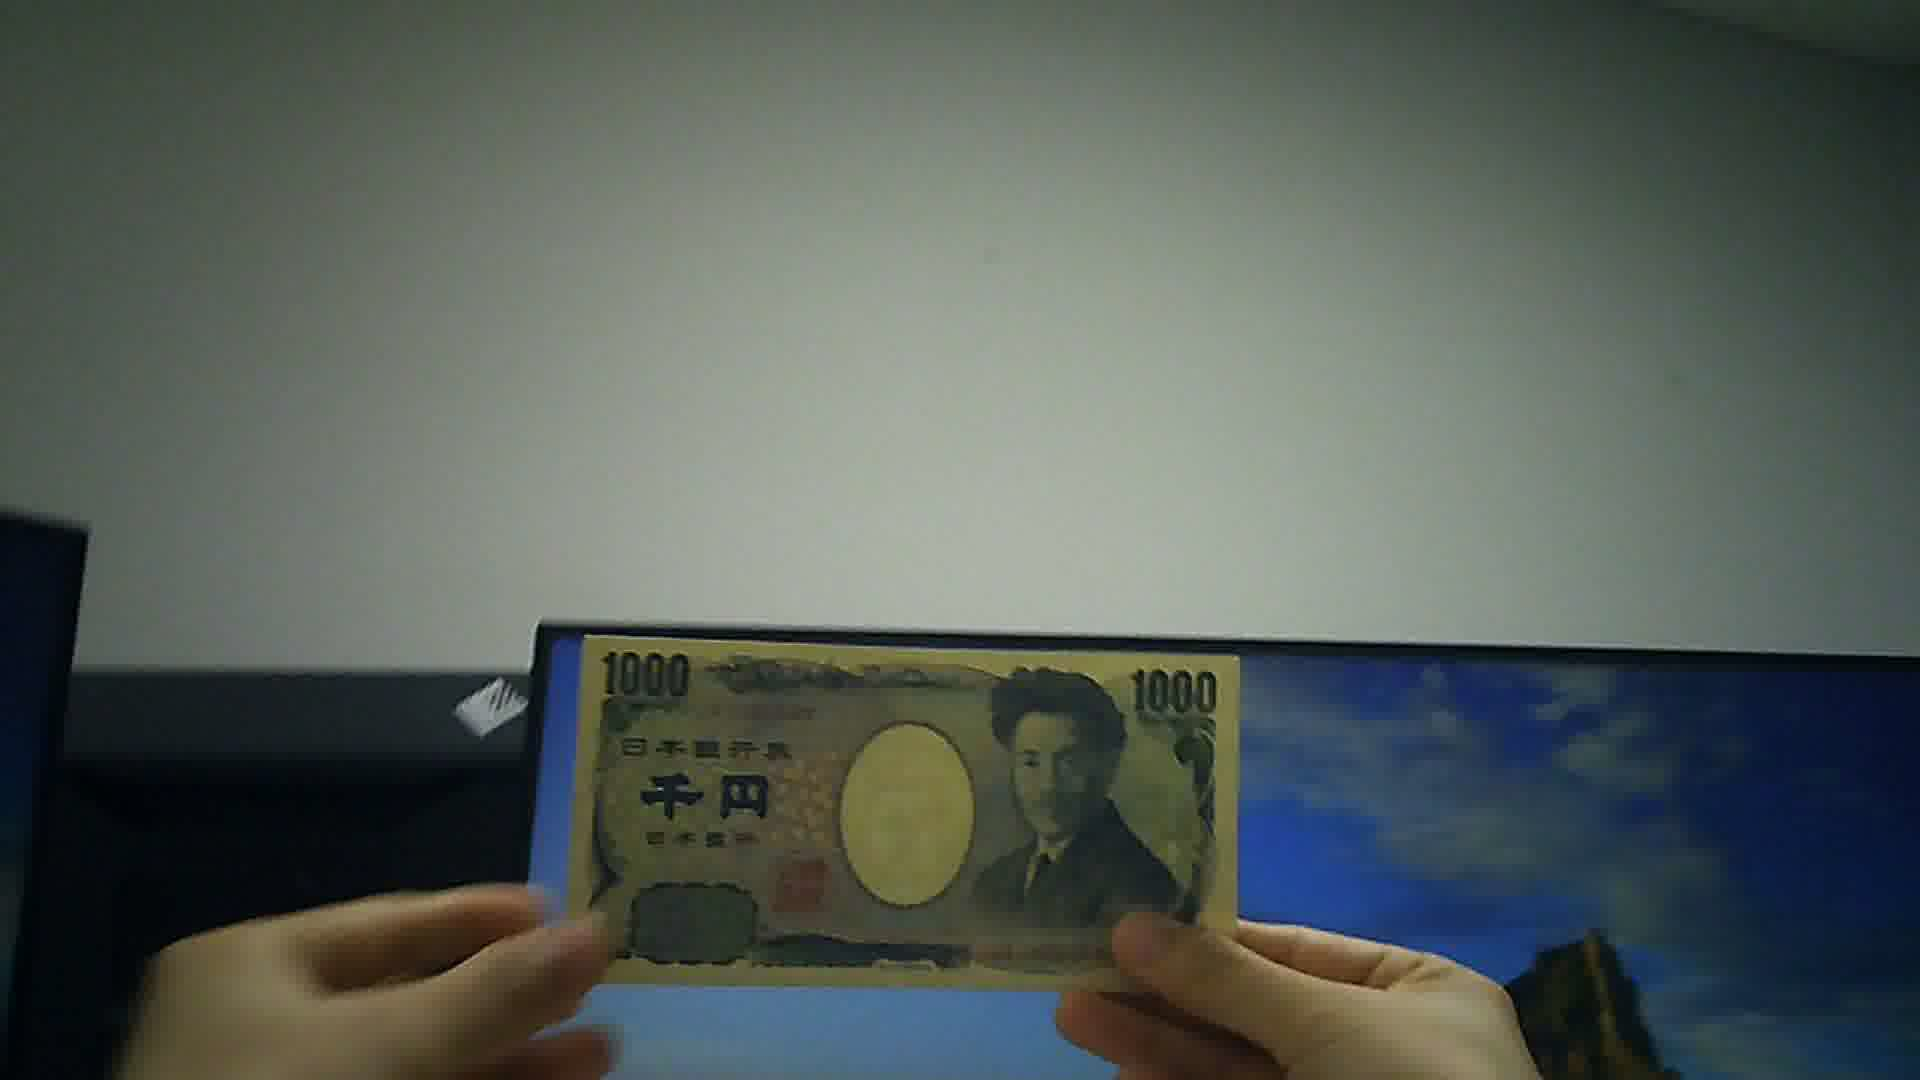1,000 Yen: (574, 629, 1249, 997)
